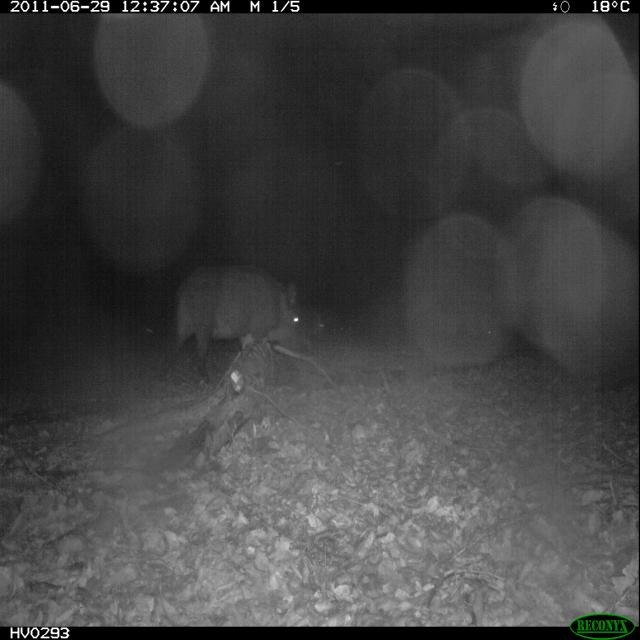boar: (154, 225, 347, 412)
